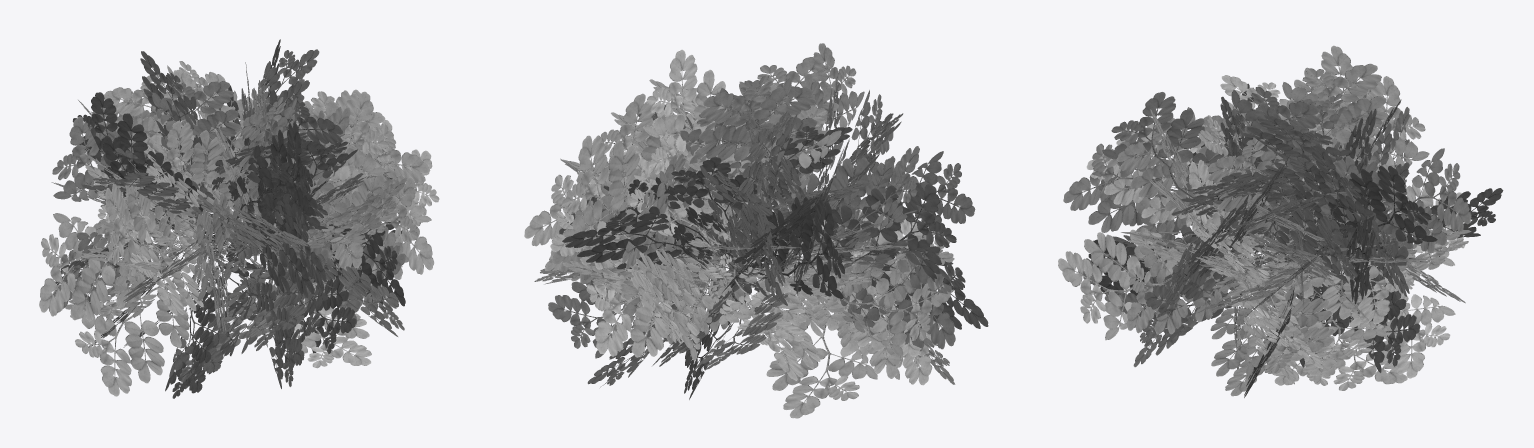
File: bush.fbx
3 views of the same model, side by side, from view 1: azimuth 30°, elevation 25°; view 2: azimuth 150°, elevation 25°; view 3: azimuth 270°, elevation 25° (orthographic). The views are drawn at different scales.
Visible parts, largest first — view 1: pngwingwhite.055; view 2: pngwingwhite.055; view 3: pngwingwhite.055.
Part boxes in pixels (<box>): pngwingwhite.055: <box>39,39,439,398</box>; pngwingwhite.055: <box>524,43,988,418</box>; pngwingwhite.055: <box>1058,45,1503,397</box>.
Size of the model in its own units: 2.2 by 1.63 by 2.13.
